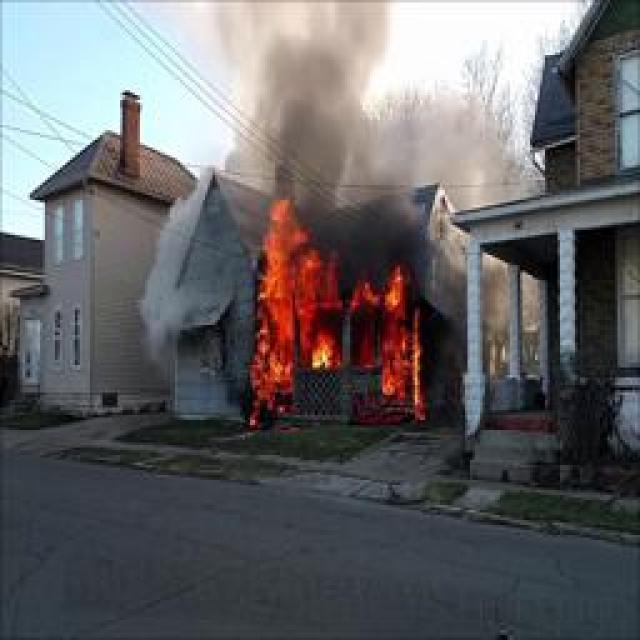Fire: (254, 197, 344, 424), (378, 269, 428, 421), (349, 279, 377, 372)
Smoke: (142, 194, 250, 414), (247, 0, 353, 171), (337, 92, 498, 202)
